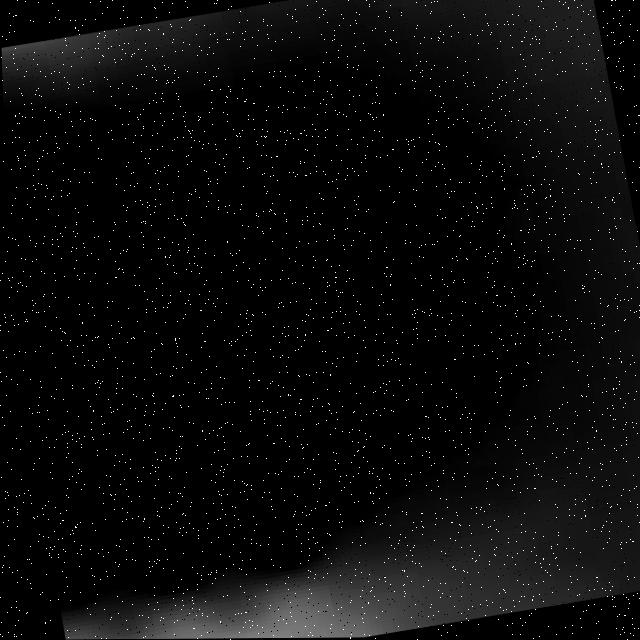person: (53, 527, 513, 640)
